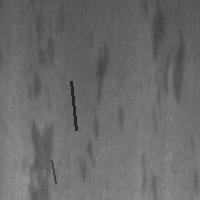inclusion: (18, 4, 62, 198), (75, 38, 111, 182), (149, 1, 186, 124), (138, 150, 159, 198), (69, 79, 78, 132), (114, 100, 127, 130), (49, 158, 57, 185)
